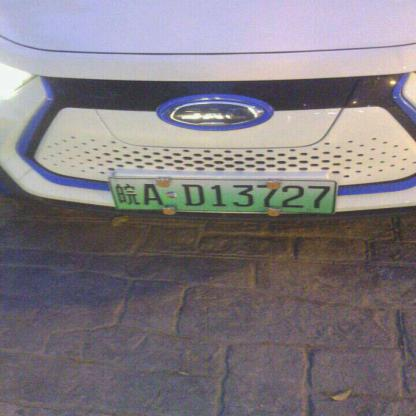lp: (109, 178, 334, 214)
